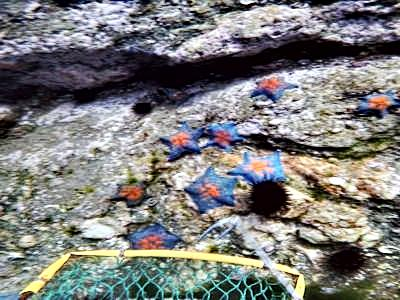urchin: (255, 182, 284, 211), (327, 248, 362, 271), (76, 88, 94, 102), (131, 103, 152, 113)
